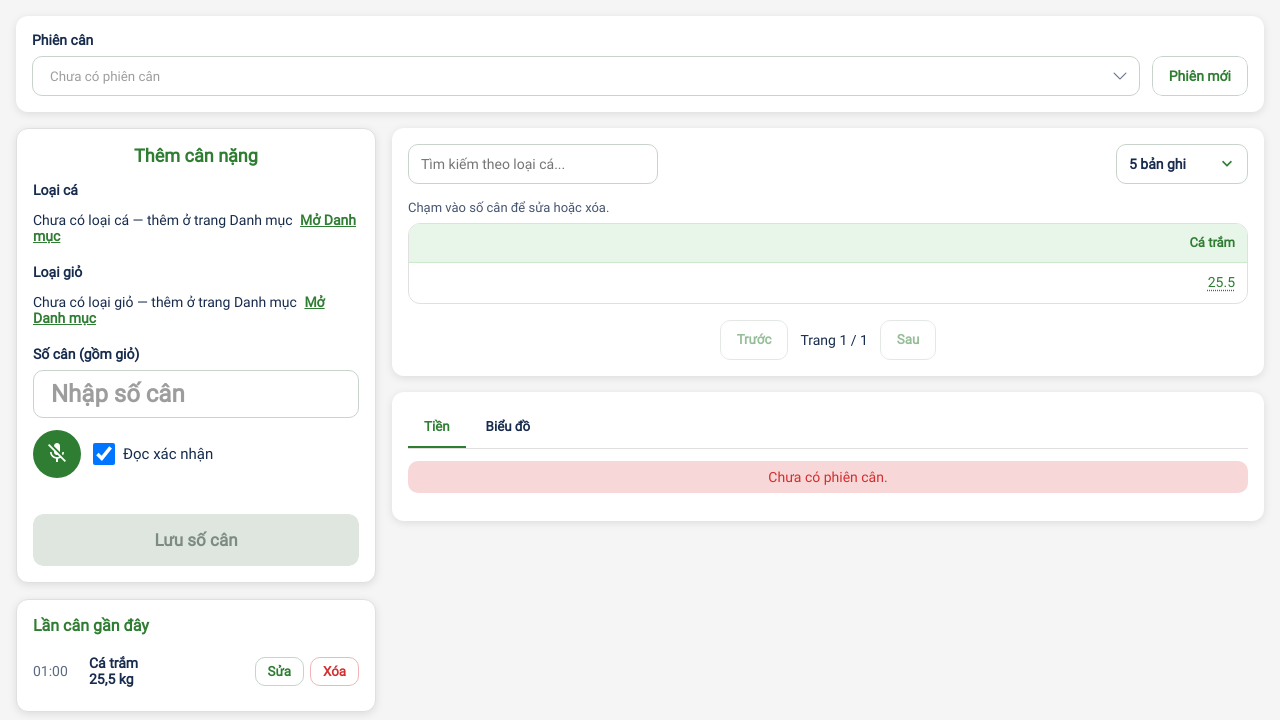
it: chọn ô → mở hộp thoại sửa; lưu xong đóng hộp thoại và tải lại
Click the cell with class "cell-editable": (1221,282) [409,263,1247,303]
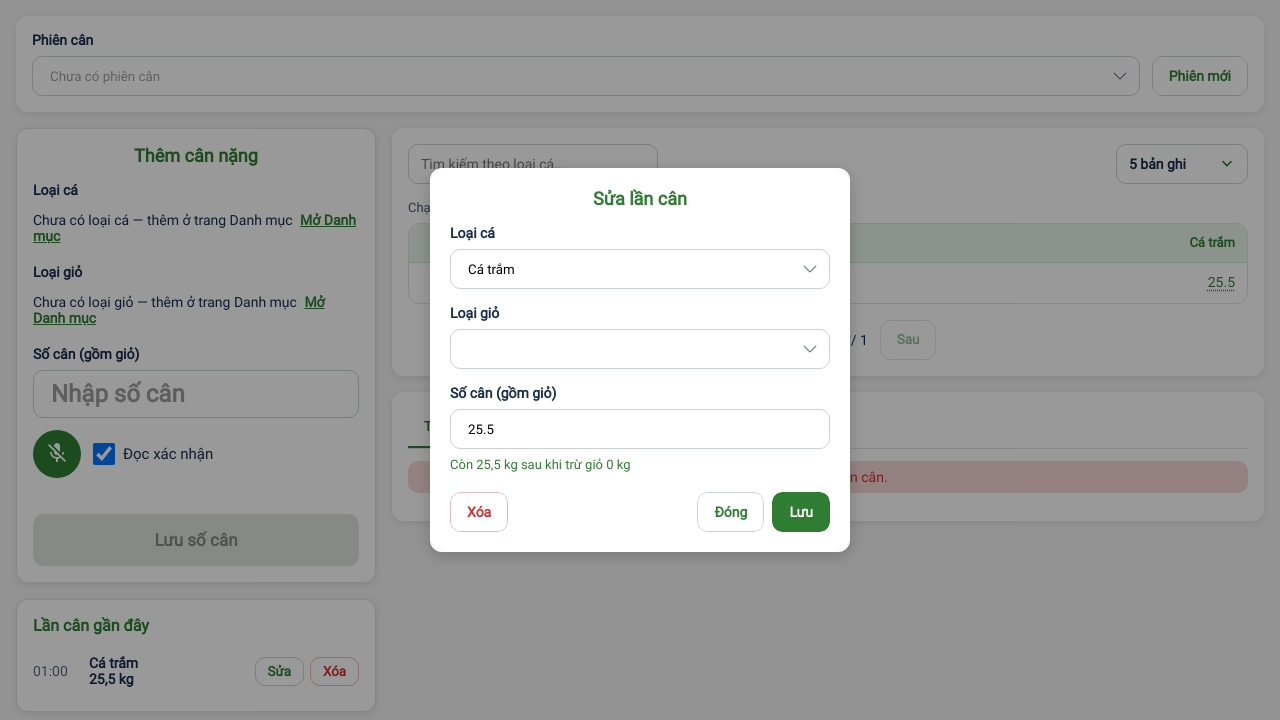
Expected: the element that starts with "Sửa lần cân" is shown
